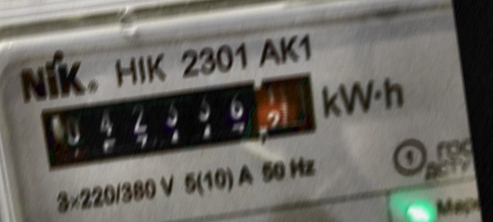0: (60, 115, 80, 145)
1: (261, 82, 276, 106)
2: (127, 102, 147, 133), (262, 108, 281, 128)
3: (190, 90, 210, 122), (159, 97, 177, 126)
4: (93, 105, 114, 136)
6: (224, 88, 245, 120)
screen: (26, 59, 330, 179)
